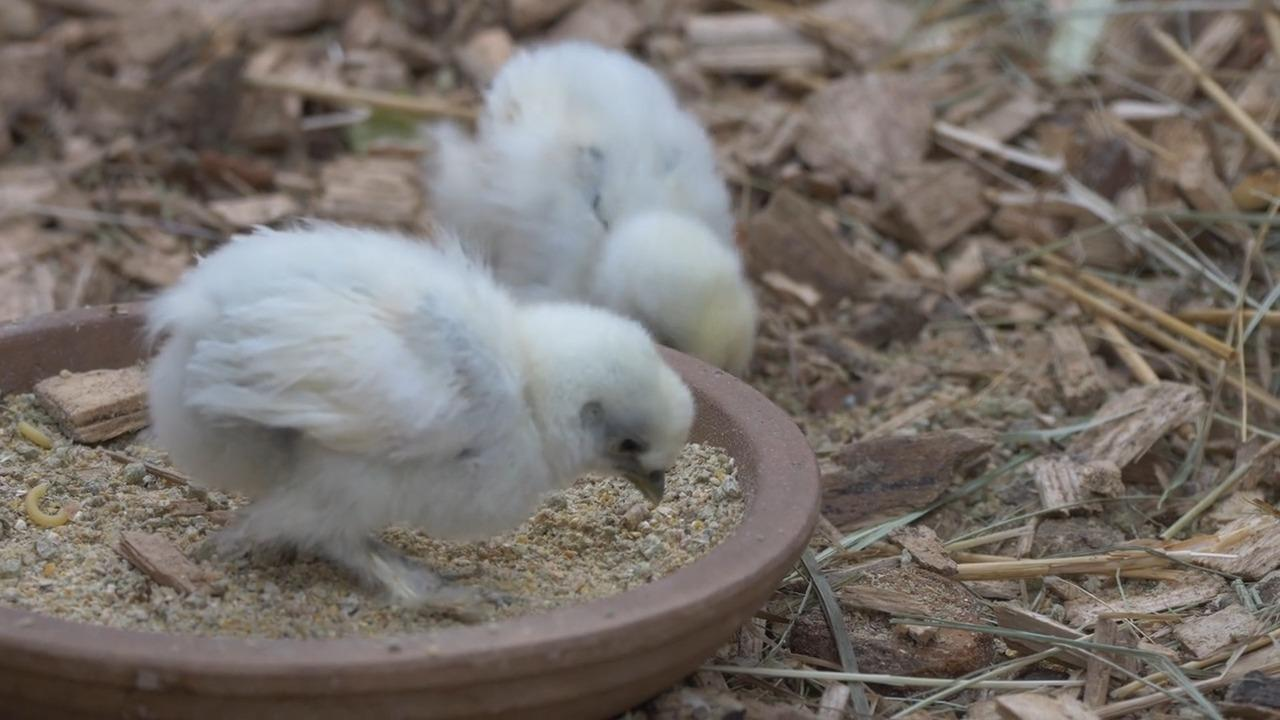Normal: (150, 213, 698, 608)
